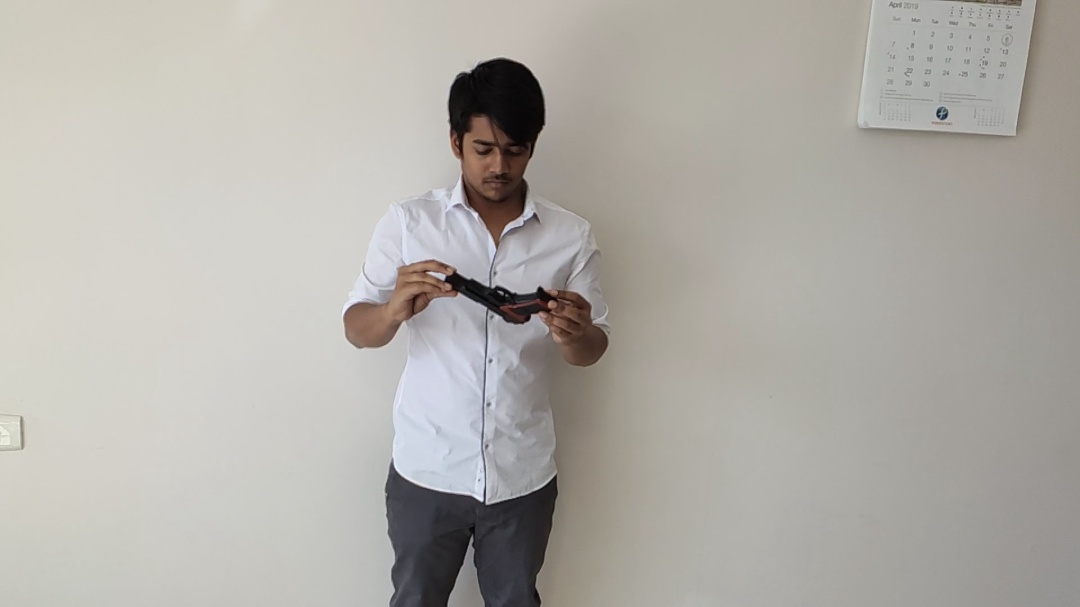gun: (447, 272, 552, 327)
